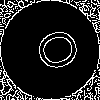O: (25, 25, 82, 78)
